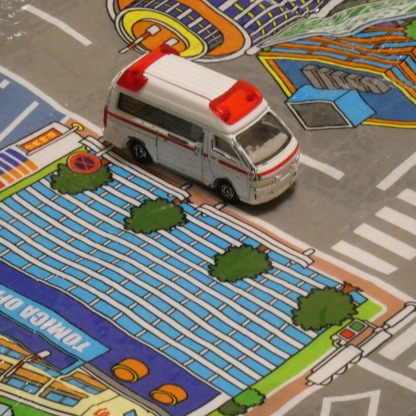car: (101, 41, 300, 217)
